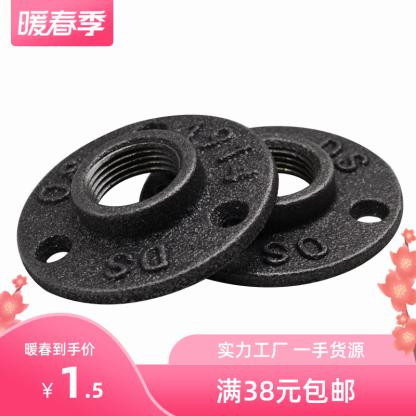FOD: (14, 107, 280, 306), (138, 119, 406, 288)
